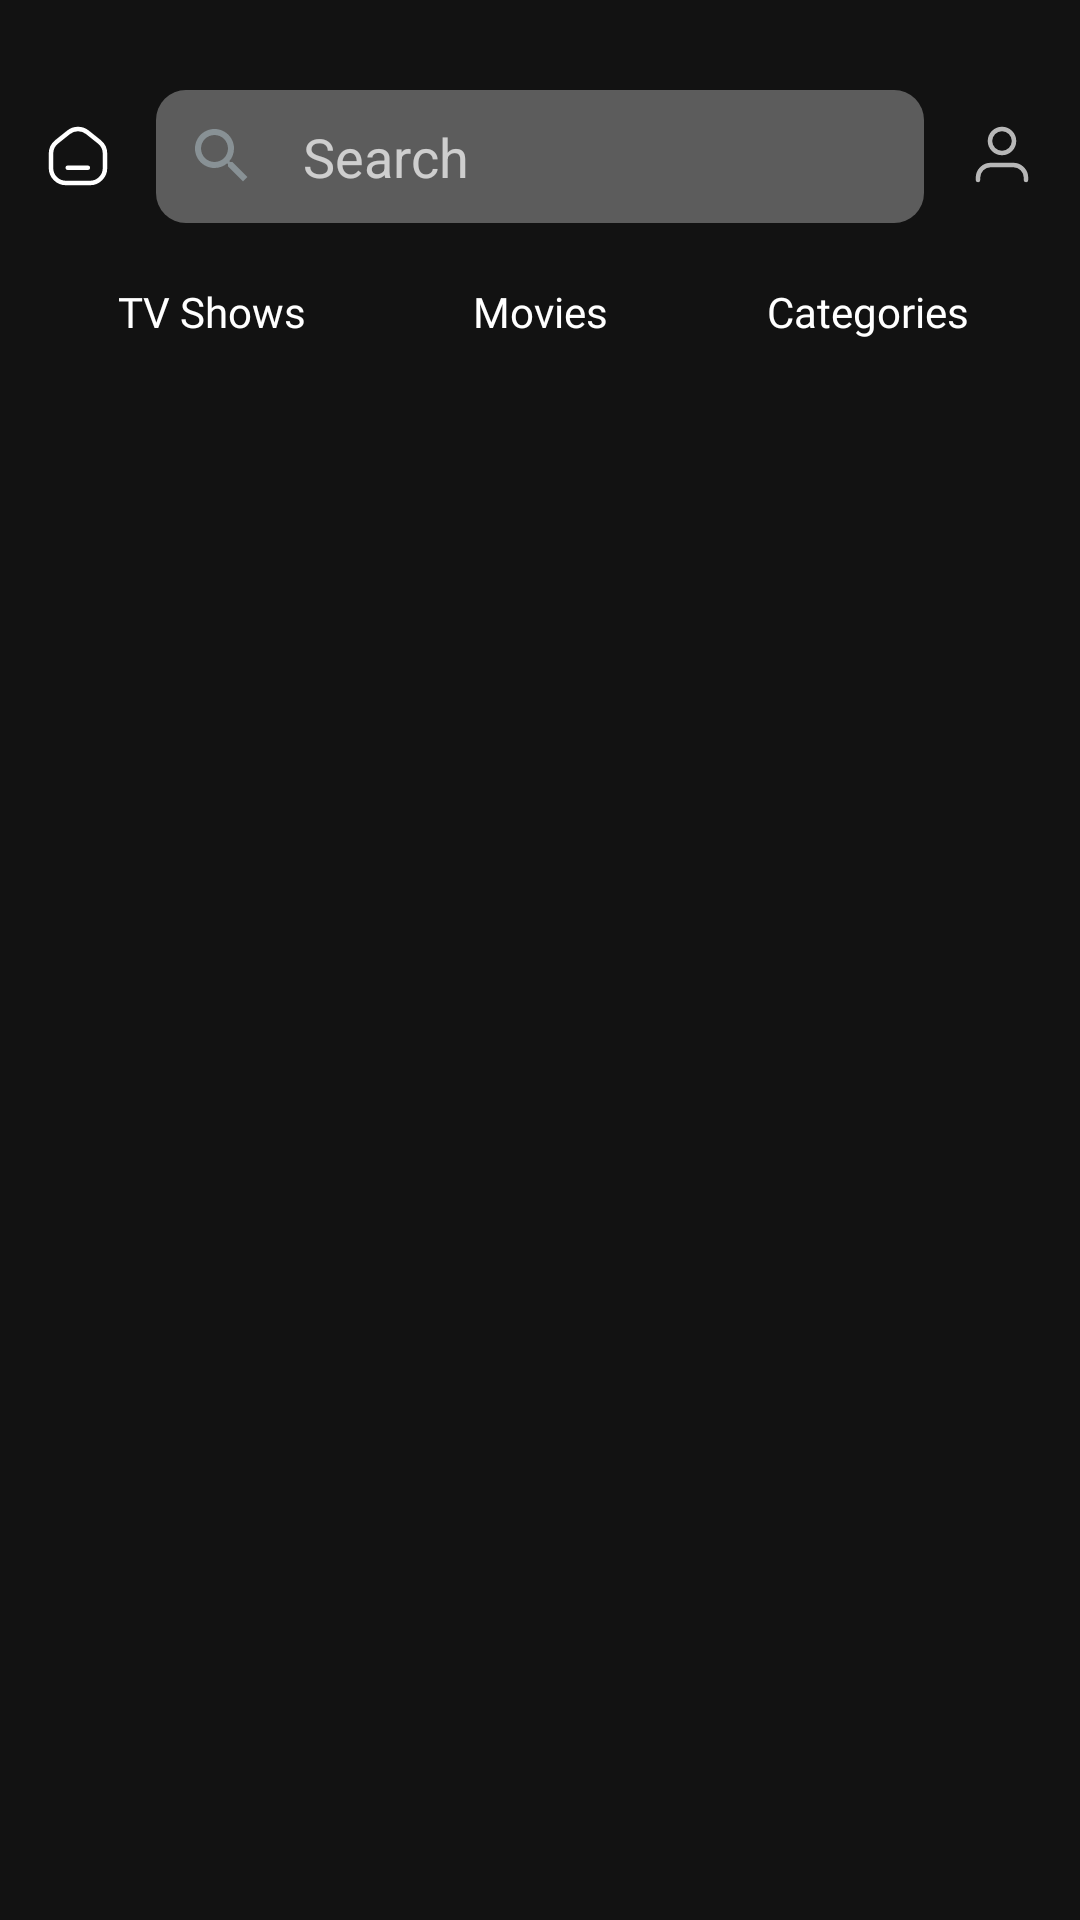

Where icons sit on this 1080x1920 app screen, as {"x1": x1, "y1": y1, "x2": x2, "y2": y2}:
single user: {"x1": 975, "y1": 126, "x2": 1029, "y2": 182}
